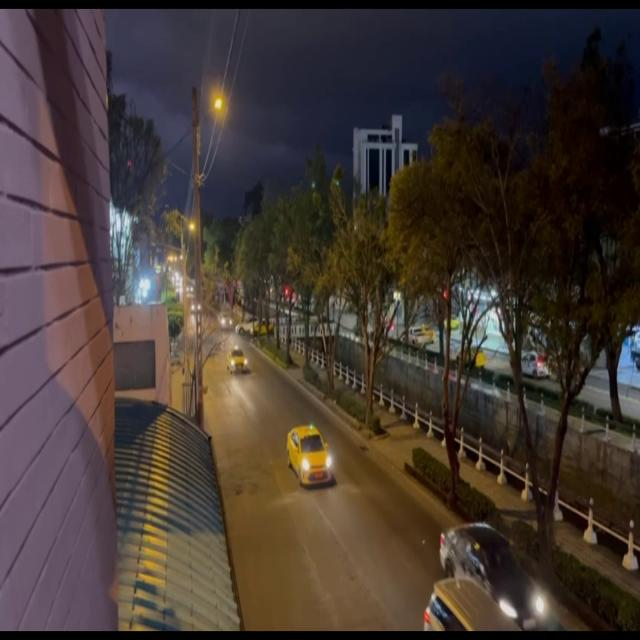SED: (438, 523, 546, 618)
